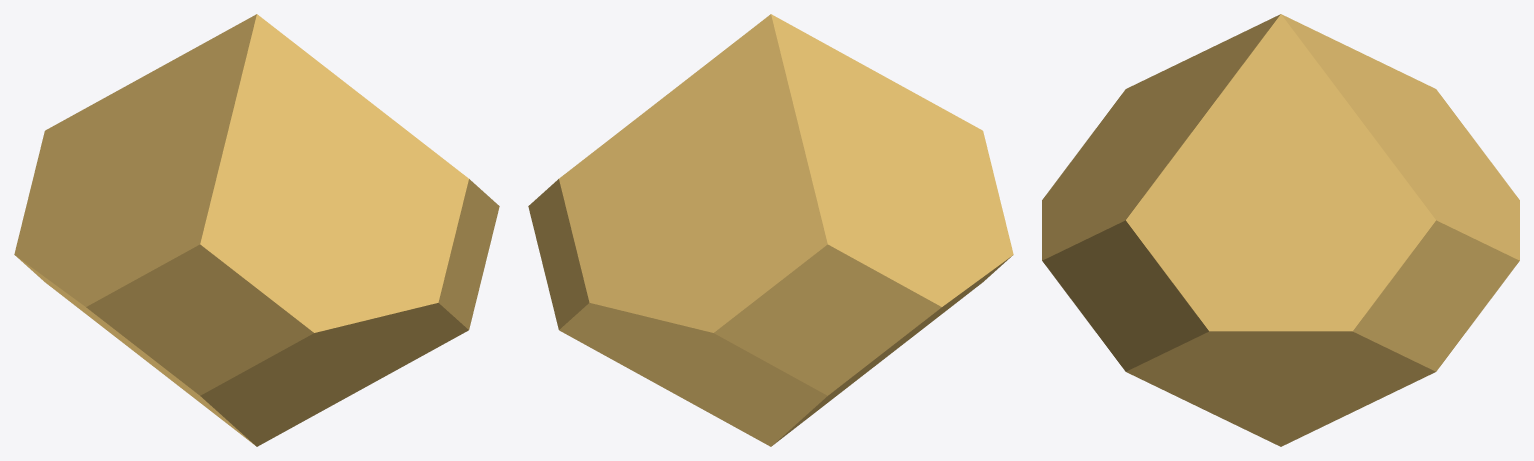
File: b_prize_rotator2.fbx
3 views of the same model, side by side, from view 1: azimuth 30°, elevation 25°; view 2: azimuth 150°, elevation 25°; view 3: azimuth 270°, elevation 25° (orthographic).
Visible parts, largest first — view 1: prize_rotation; view 2: prize_rotation; view 3: prize_rotation.
Boxes of the visible parts, x1,y1,x2,y2 form: prize_rotation: [14, 14, 499, 446]; prize_rotation: [528, 14, 1013, 446]; prize_rotation: [1042, 14, 1519, 446].
Size of the model in its own units: 1 by 1 by 1.
